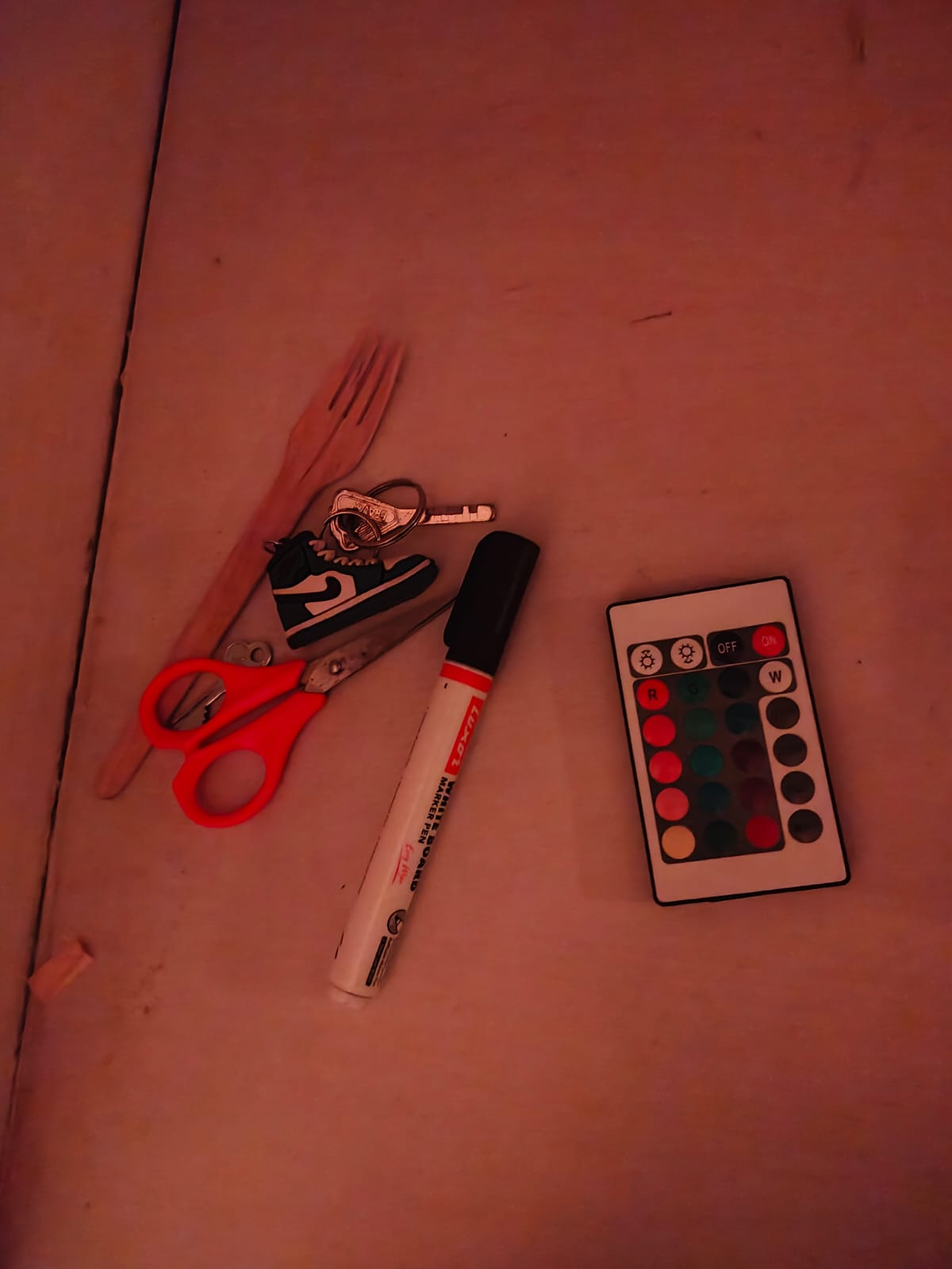case: (308, 522, 550, 1014)
